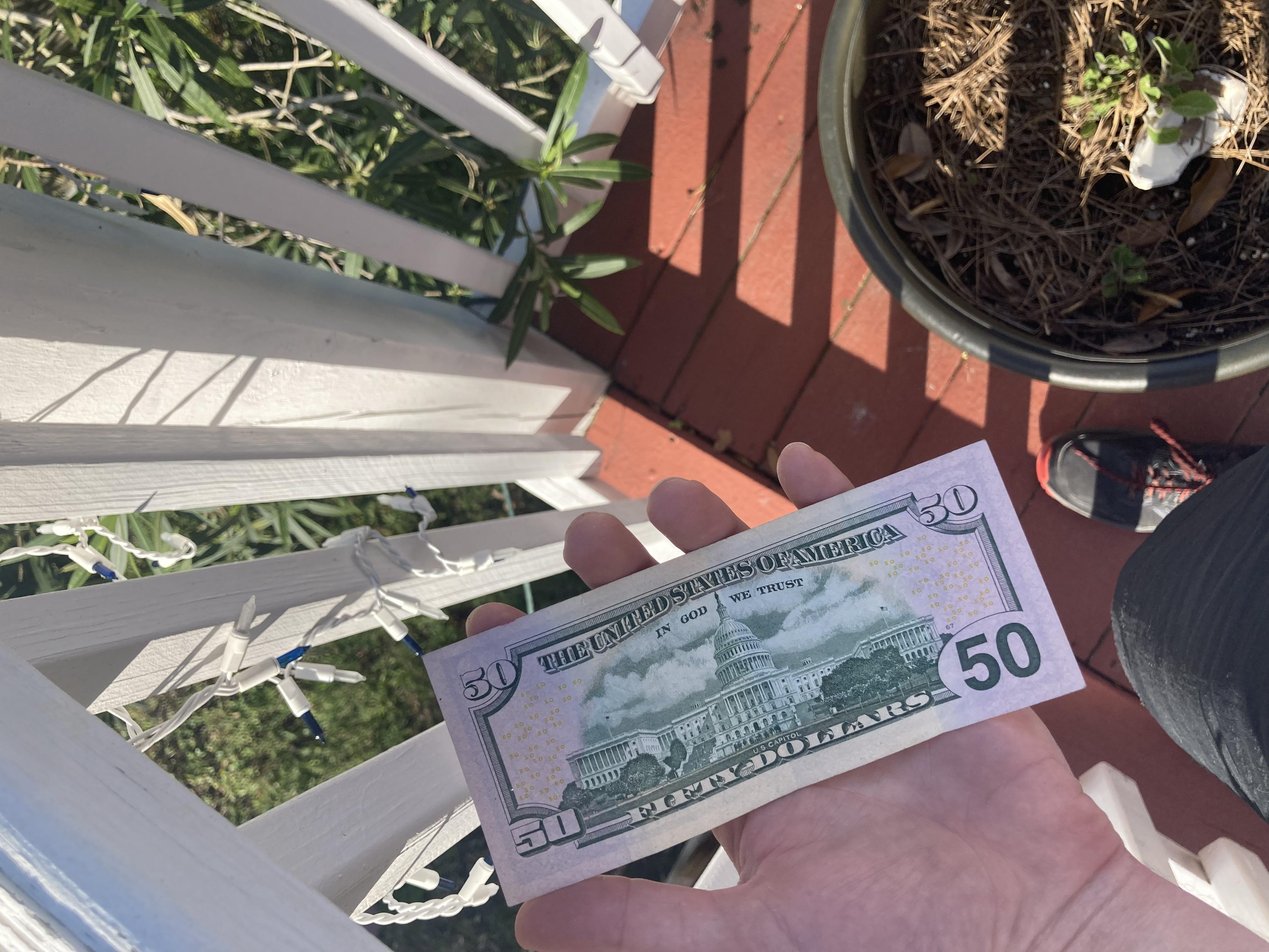fifty-back: (61, 316, 688, 815)
